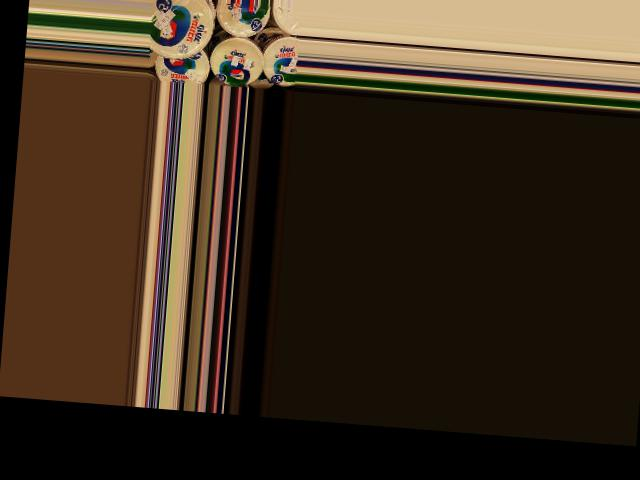cotage: (154, 46, 215, 84)
